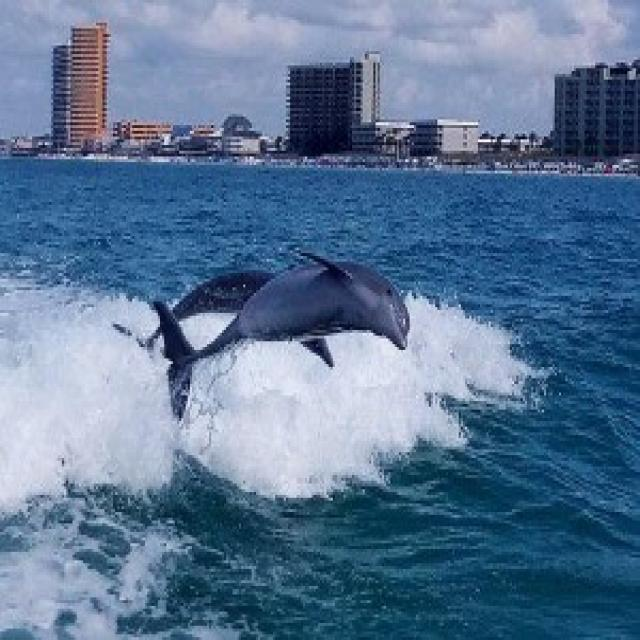Dolphin: (162, 265, 446, 431), (120, 255, 256, 341)
